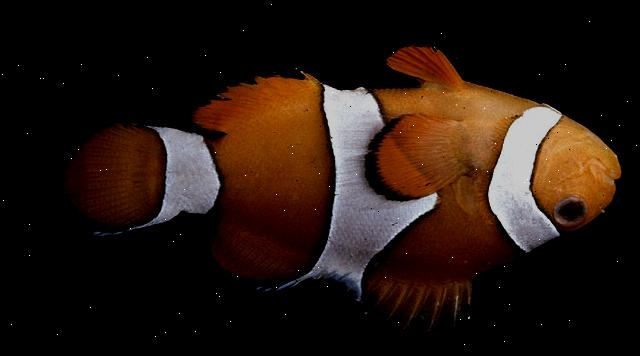Mulut: (578, 126, 634, 213)
Sirip Anal: (166, 60, 332, 140)
Sirip Dada: (356, 107, 472, 215)
Sirip Ekor: (30, 128, 184, 246)
Sirip Perut: (379, 36, 471, 97)
Sirip Punggung: (194, 210, 486, 344)
